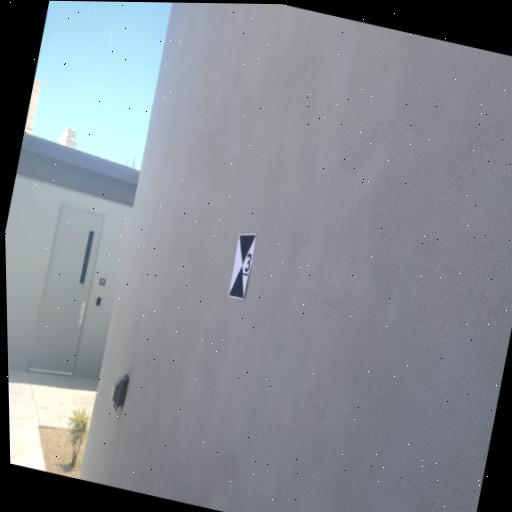target3: (227, 231, 258, 301)
